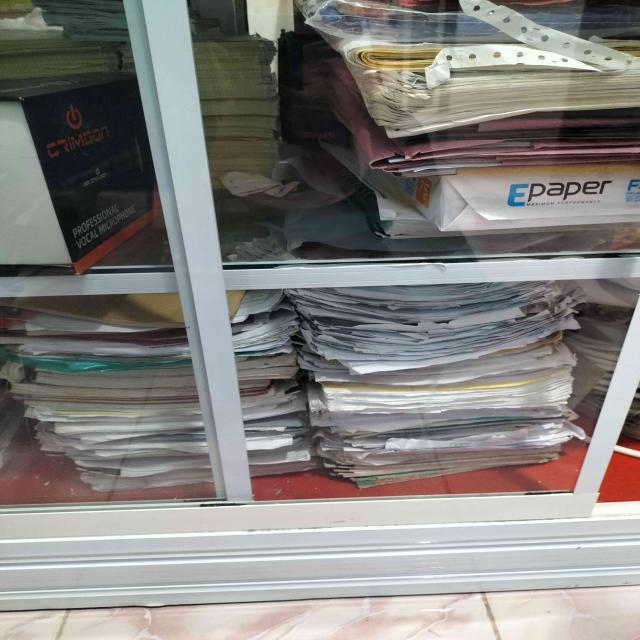Kertas: (40, 289, 602, 501)
